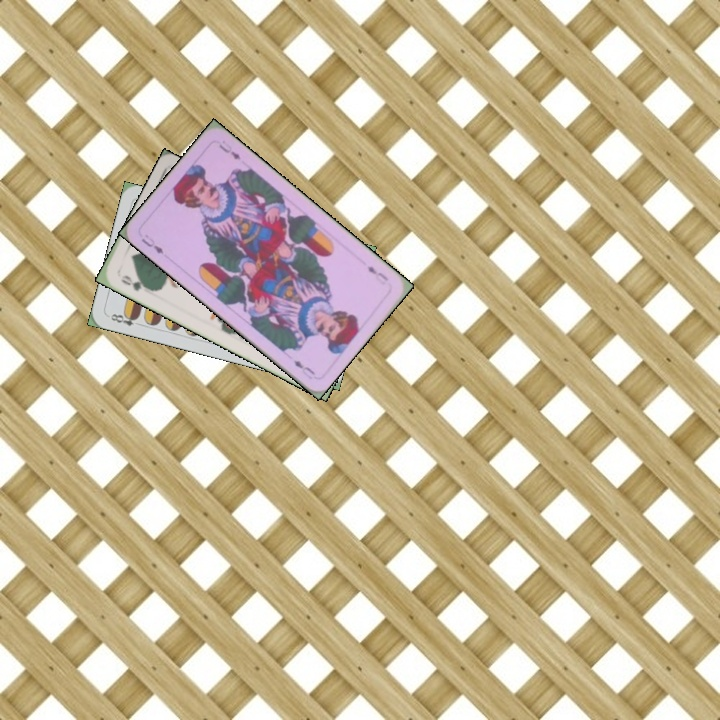E8: (107, 309, 144, 329)
EU: (137, 230, 167, 257), (363, 262, 391, 288)
GO: (116, 271, 153, 294)
